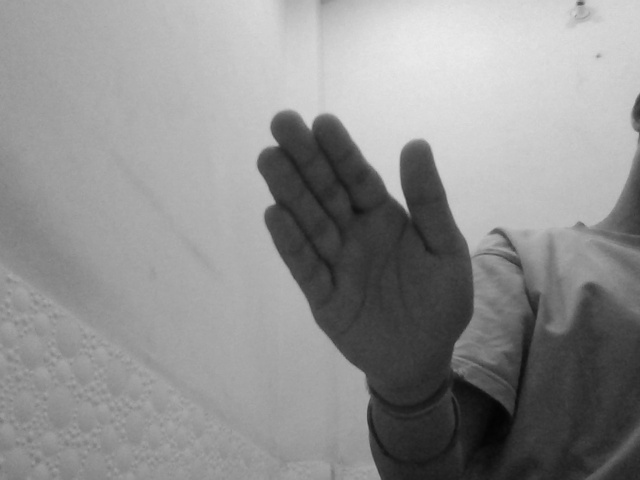Hello: (258, 108, 476, 383)
